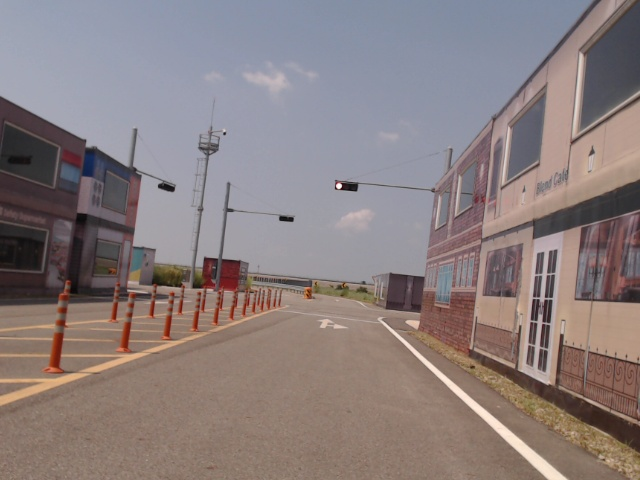red_3: (334, 181, 358, 192)
